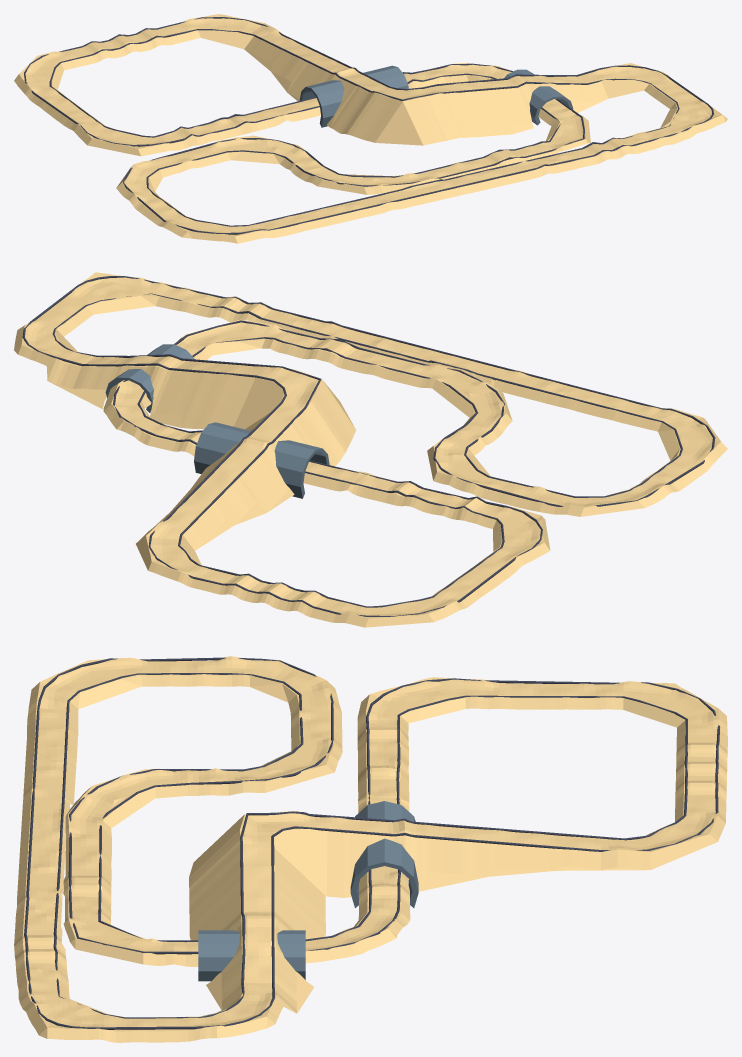
The model's file is course_n_f.gltf.
The picture shows the model from 3 angles, top to bottom: view 1: azimuth 30°, elevation 25°; view 2: azimuth 150°, elevation 25°; view 3: azimuth 270°, elevation 25°; orthographic projection. The views are drawn at different scales.
Visible parts, largest first — view 1: Course, 円.011, 円.001, 円; view 2: Course, 円.011, 円.001, 円; view 3: Course, 円.011, 円.001, 円.
Part boxes in pixels (box(x1,y1,x2,y2)): Course: box(14, 14, 727, 243); 円.011: box(24, 17, 713, 234); 円.001: box(299, 65, 408, 127); 円: box(504, 69, 573, 125); Course: box(14, 272, 727, 627); 円.011: box(22, 276, 715, 616); 円.001: box(194, 422, 329, 498); 円: box(105, 344, 194, 412); Course: box(14, 656, 727, 1042); 円.011: box(24, 657, 720, 1029); 円.001: box(350, 801, 418, 907); 円: box(198, 930, 305, 981).
Bounding box in the file's own units: 52.51 × 4.29 × 41.91.
